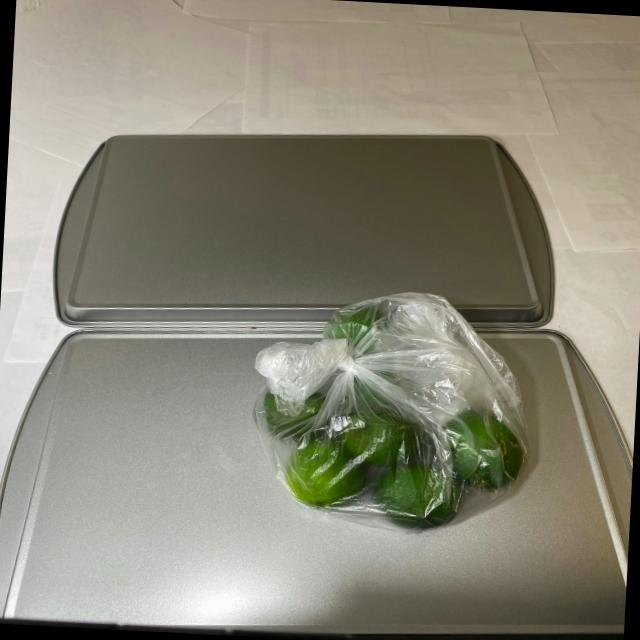lemon: (254, 297, 544, 530)
